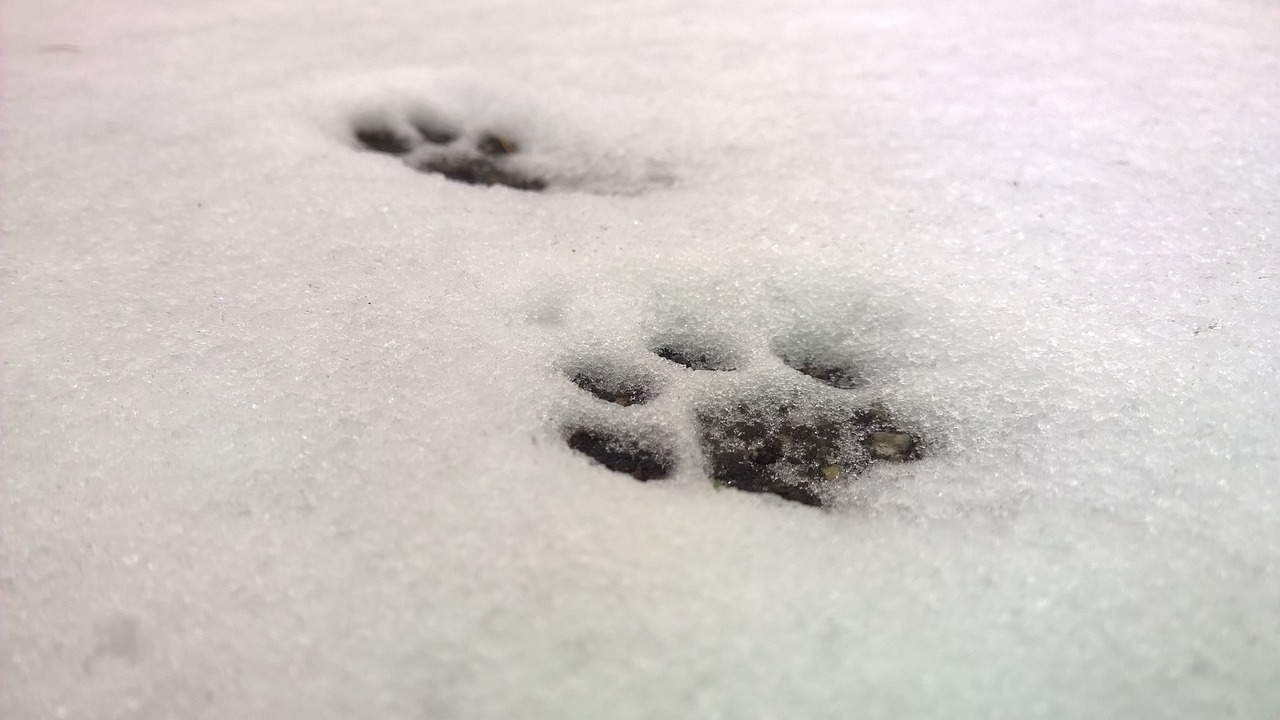cat: (538, 311, 953, 550), (330, 73, 633, 229)
